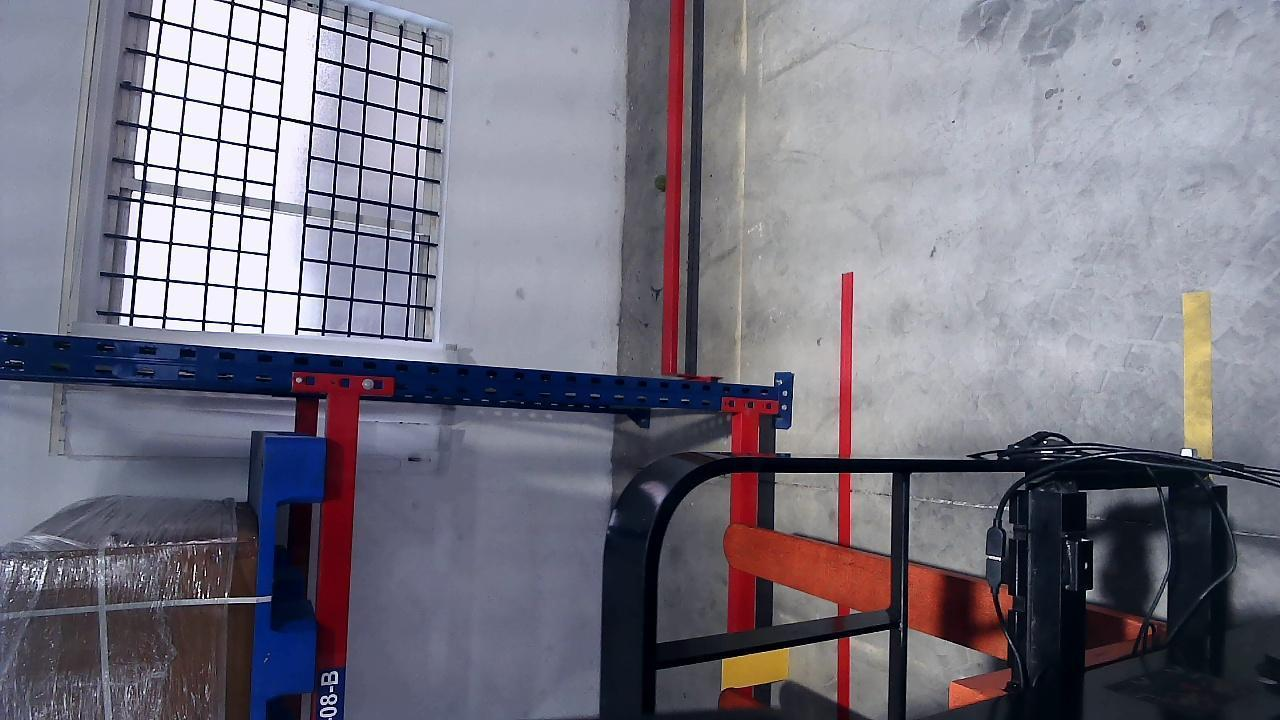red_line: (838, 271, 855, 709)
yellow_line: (1183, 291, 1215, 457)
